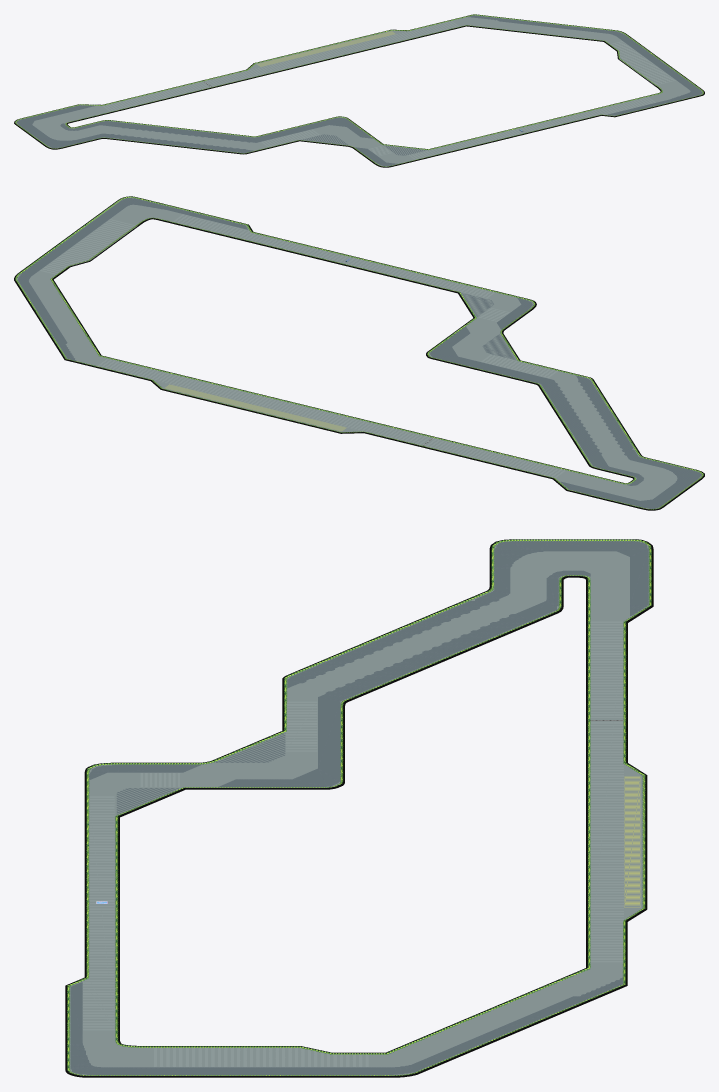
The model's file is Mute_Cty_I_4.fbx.
3 renders of one model, top to bottom at view 1: azimuth 30°, elevation 25°; view 2: azimuth 150°, elevation 25°; view 3: azimuth 270°, elevation 25°, orthographic. The views are drawn at different scales.
Parts seen in each view (by area): view 1: MuteCityI_Road, MuteCityI_Sima, MuteCityI_Dirt, MuteCityI_GurdBeam, MuteCityI_Pit, MuteCityI_Dirt_Sima; view 2: MuteCityI_Road, MuteCityI_Sima, MuteCityI_Dirt, MuteCityI_GurdBeam, MuteCityI_Pit, MuteCityI_Dirt_Sima; view 3: MuteCityI_Road, MuteCityI_Sima, MuteCityI_Dirt, MuteCityI_GurdBeam, MuteCityI_Pit, MuteCityI_Dirt_Sima.
Boxes of the visible parts, bbox=[...] form: MuteCityI_Road: bbox=[14, 14, 704, 167]; MuteCityI_Sima: bbox=[103, 20, 675, 159]; MuteCityI_Dirt: bbox=[17, 15, 702, 166]; MuteCityI_GurdBeam: bbox=[15, 14, 703, 166]; MuteCityI_Pit: bbox=[257, 31, 395, 66]; MuteCityI_Dirt_Sima: bbox=[301, 134, 426, 155]; MuteCityI_Road: bbox=[14, 196, 704, 510]; MuteCityI_Sima: bbox=[40, 214, 566, 478]; MuteCityI_Dirt: bbox=[18, 198, 701, 508]; MuteCityI_GurdBeam: bbox=[15, 196, 703, 509]; MuteCityI_Pit: bbox=[164, 384, 346, 431]; MuteCityI_Dirt_Sima: bbox=[462, 293, 515, 359]; MuteCityI_Road: bbox=[65, 539, 653, 1077]; MuteCityI_Sima: bbox=[83, 621, 623, 1066]; MuteCityI_Dirt: bbox=[70, 541, 648, 1074]; MuteCityI_GurdBeam: bbox=[67, 539, 651, 1075]; MuteCityI_Pit: bbox=[624, 776, 640, 908]; MuteCityI_Dirt_Sima: bbox=[116, 733, 285, 814].
Bounding box in the file's own units: 92097 × 140 × 42573.
